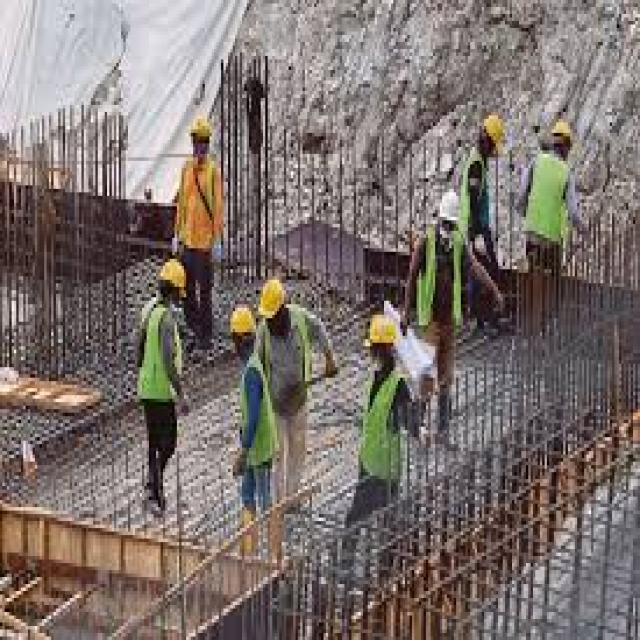Reflective-Jacket: (351, 364, 412, 496), (408, 224, 472, 346), (519, 150, 582, 259), (233, 353, 284, 472), (133, 300, 186, 412), (170, 157, 226, 259), (454, 150, 496, 245)
Safety-Helmet: (358, 304, 405, 360), (256, 273, 291, 325), (154, 255, 193, 301), (477, 105, 510, 157), (226, 301, 258, 346), (433, 185, 463, 231), (545, 112, 577, 154), (186, 108, 217, 147)
